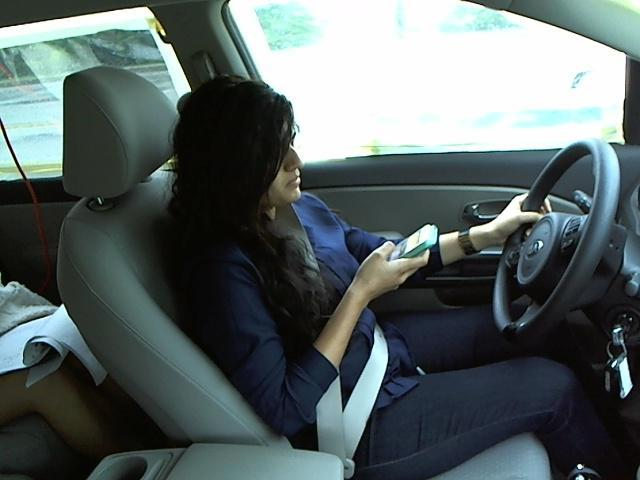PhoneUse: (376, 221, 440, 269)
